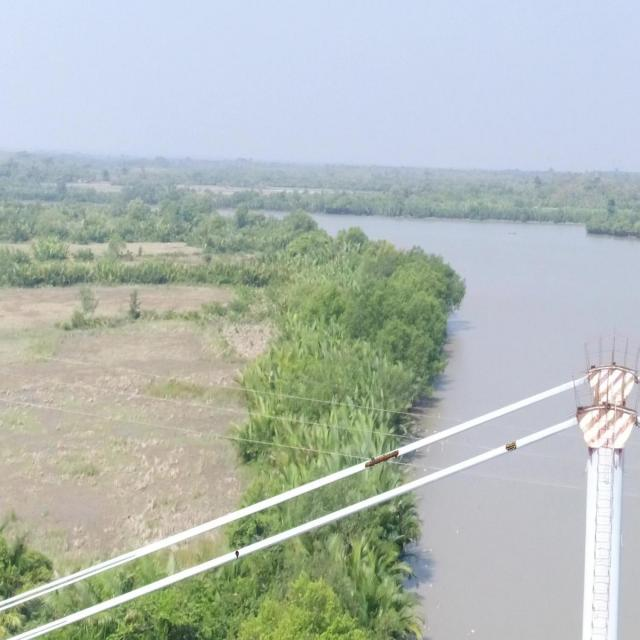corrosion: (365, 450, 398, 468), (506, 441, 516, 451), (235, 550, 239, 560)
